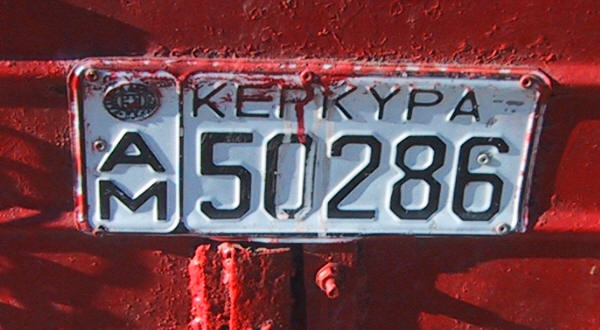license_plate: (66, 59, 549, 237)
